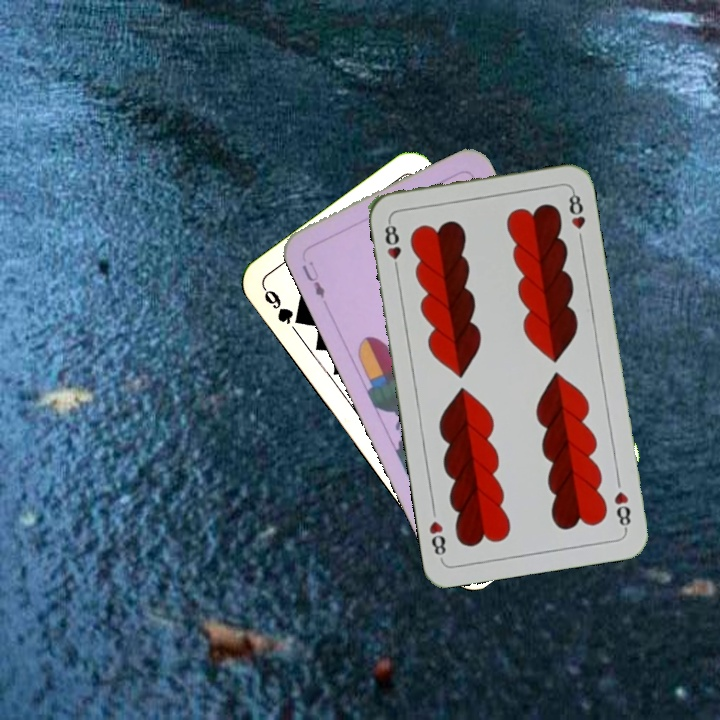EU: (297, 256, 327, 301)
G9: (259, 283, 307, 328)
H8: (381, 216, 404, 275), (610, 487, 633, 533)
